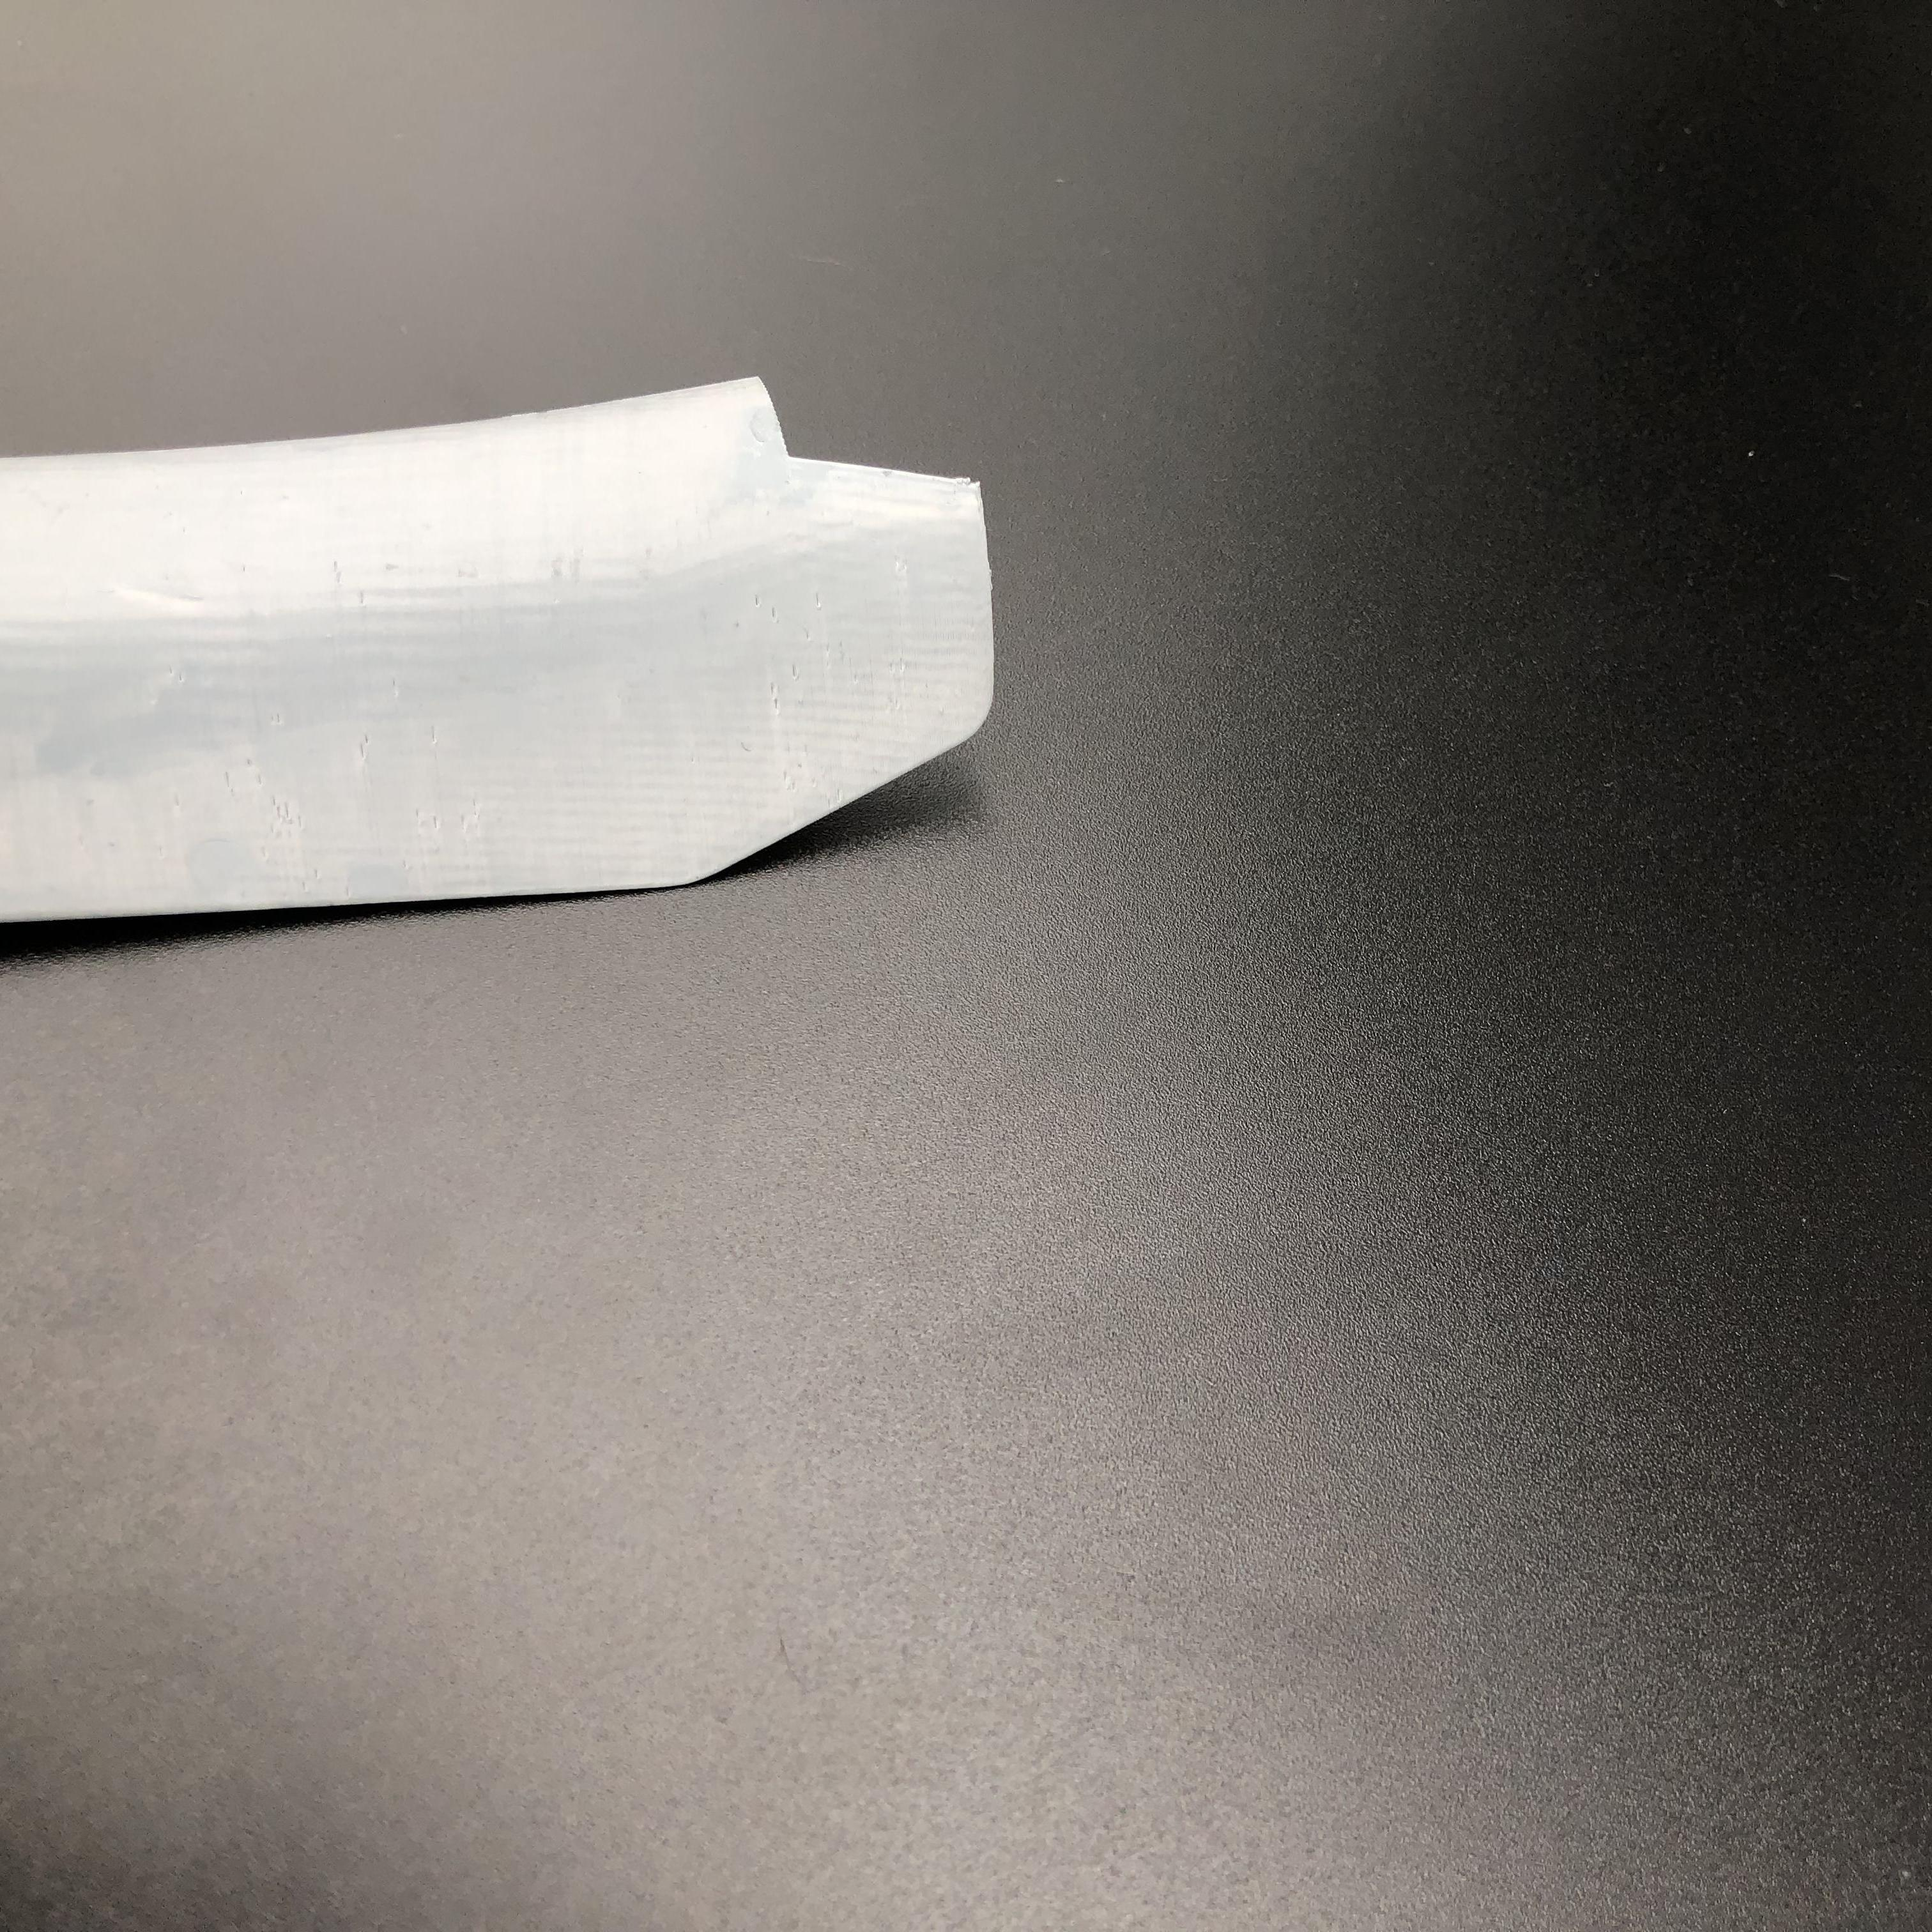fracture: (731, 375, 971, 504)
